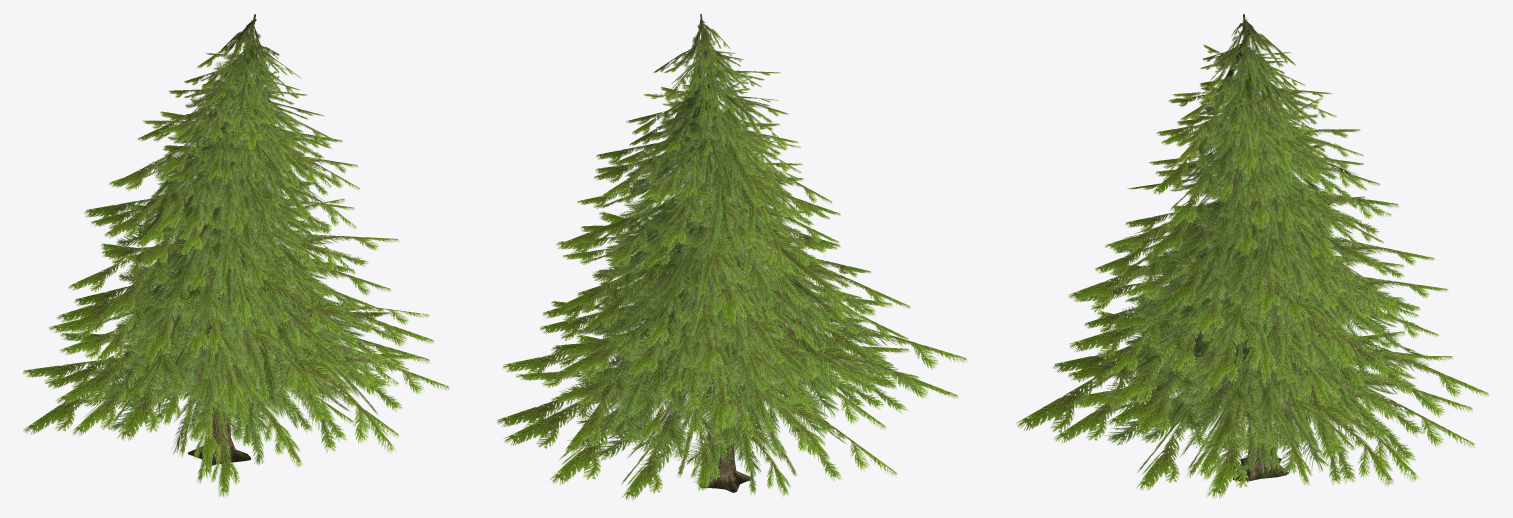
The model's file is tree.glb.
3 renders of one model, left to right at view 1: azimuth 30°, elevation 25°; view 2: azimuth 150°, elevation 25°; view 3: azimuth 270°, elevation 25°, orthographic. The views are drawn at different scales.
Parts seen in each view (by area): view 1: spruce; view 2: spruce; view 3: spruce.
Part boxes in pixels (bbox=[...]): spruce: bbox=[23, 14, 449, 498]; spruce: bbox=[497, 14, 967, 500]; spruce: bbox=[1016, 14, 1488, 498].
Bounding box in the file's own units: 9.48 × 10.03 × 9.53.
1 material, 1 textured.
